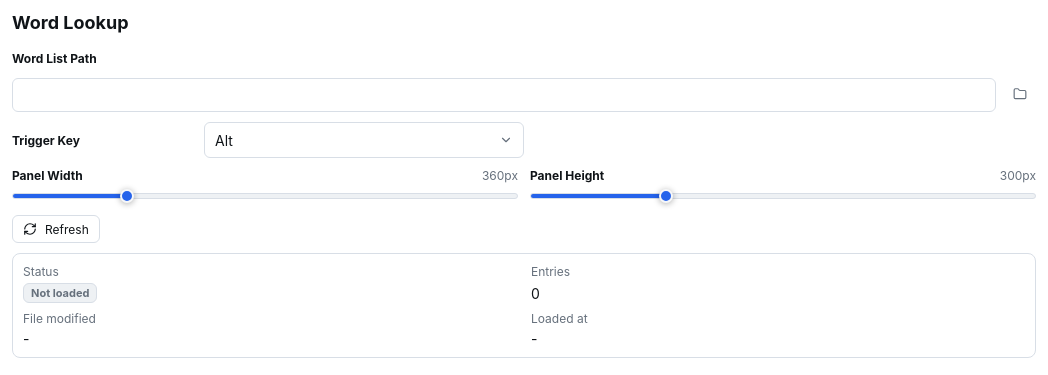
Test case: SettingsFeatures › refreshes and displays Word Lookup status
Click the button with test id "feature-word-lookup-refresh".
click(56, 229)  # box [12,215,100,243]
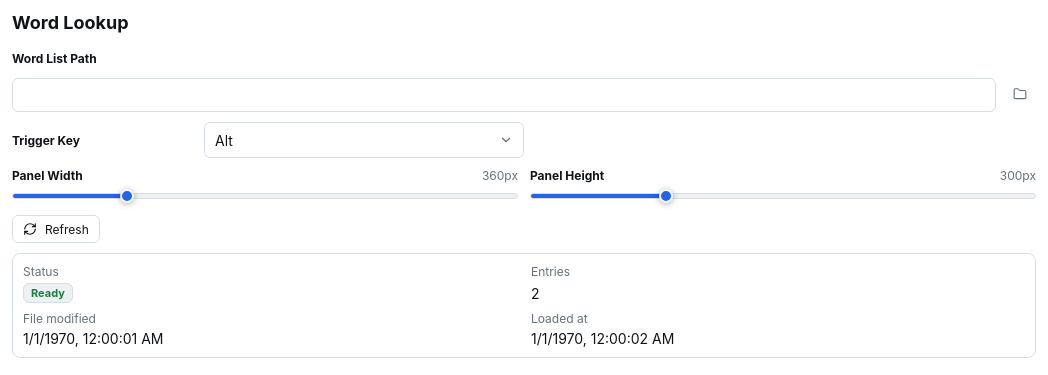
Check: the element with test id "feature-word-lookup-status" shows "2", box [531,284,540,302]
